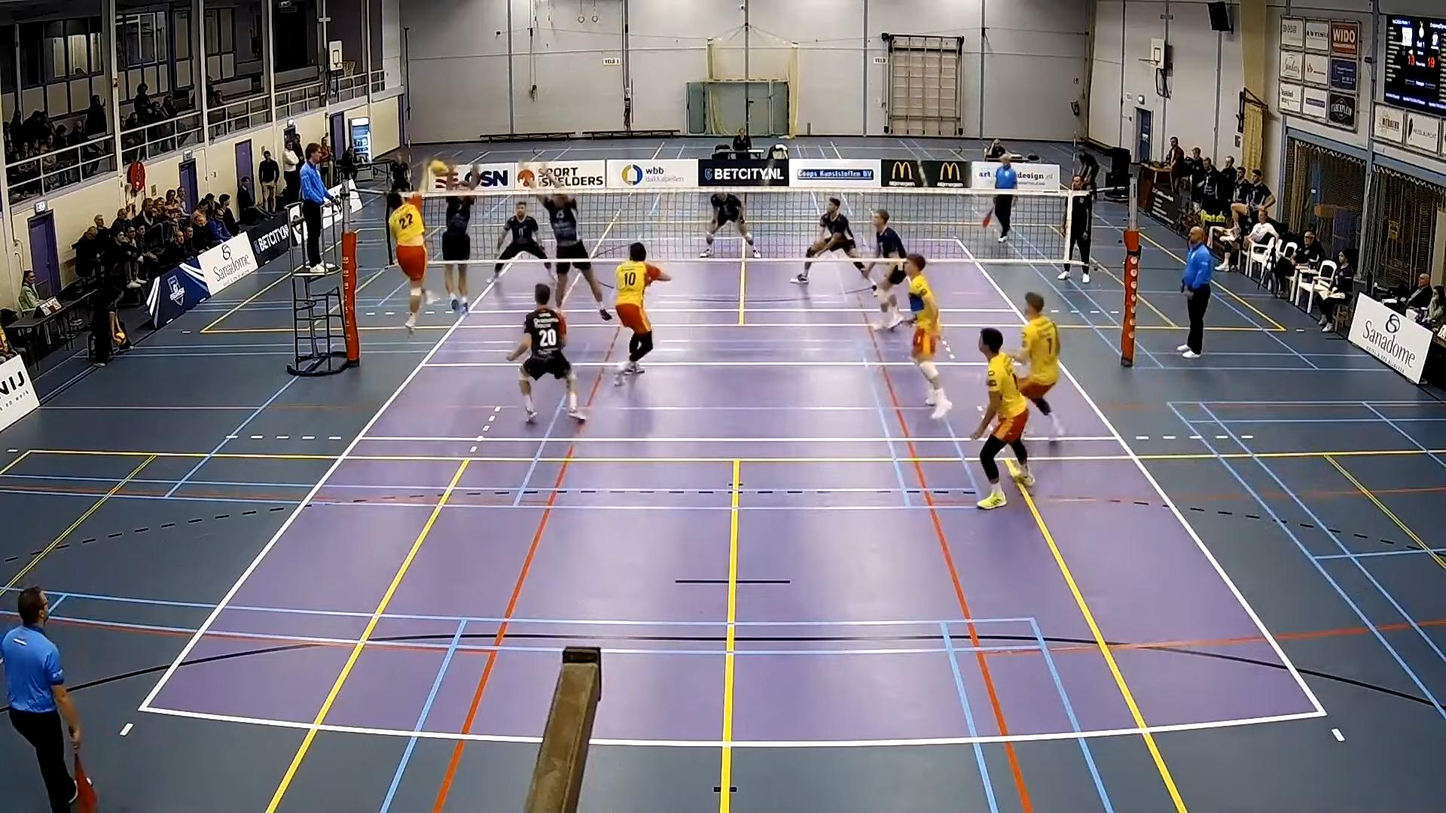Attack: (377, 177, 438, 324)
Block: (516, 158, 617, 323), (437, 159, 488, 323)
Player: (971, 328, 1033, 509), (508, 283, 585, 422), (615, 242, 670, 385), (905, 253, 951, 419), (1014, 292, 1063, 439), (792, 199, 868, 284), (865, 209, 906, 329), (494, 201, 550, 276), (700, 191, 758, 257)
ball: (432, 157, 445, 171)
